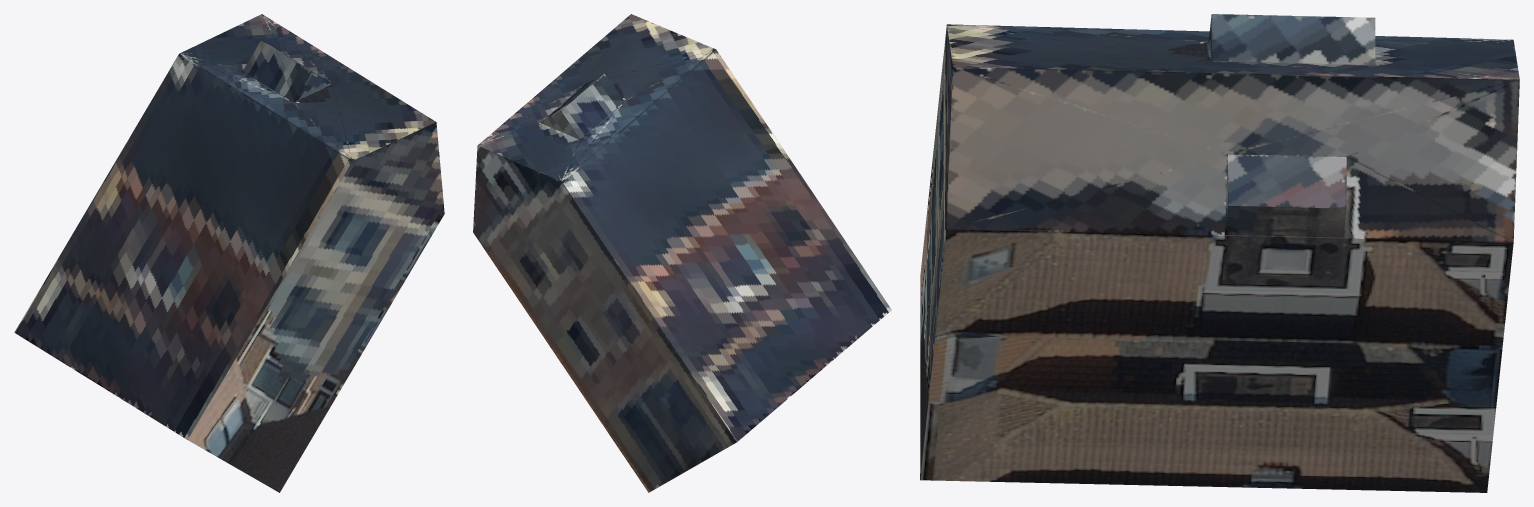
3 views of the same model, side by side, from view 1: azimuth 30°, elevation 25°; view 2: azimuth 150°, elevation 25°; view 3: azimuth 270°, elevation 25° (orthographic). The views are drawn at different scales.
Visible parts, largest first — view 1: BAG_0599100000688739 (×5); view 2: BAG_0599100000688739 (×5); view 3: BAG_0599100000688739 (×5).
Boxes of the visible parts, x1,y1,x2,y2 form: BAG_0599100000688739 (×5): [14, 14, 444, 492]; BAG_0599100000688739 (×5): [473, 14, 891, 492]; BAG_0599100000688739 (×5): [920, 14, 1519, 492].
Size of the model in its own units: 12.03 by 13.65 by 12.72.
1 material, 1 textured.
